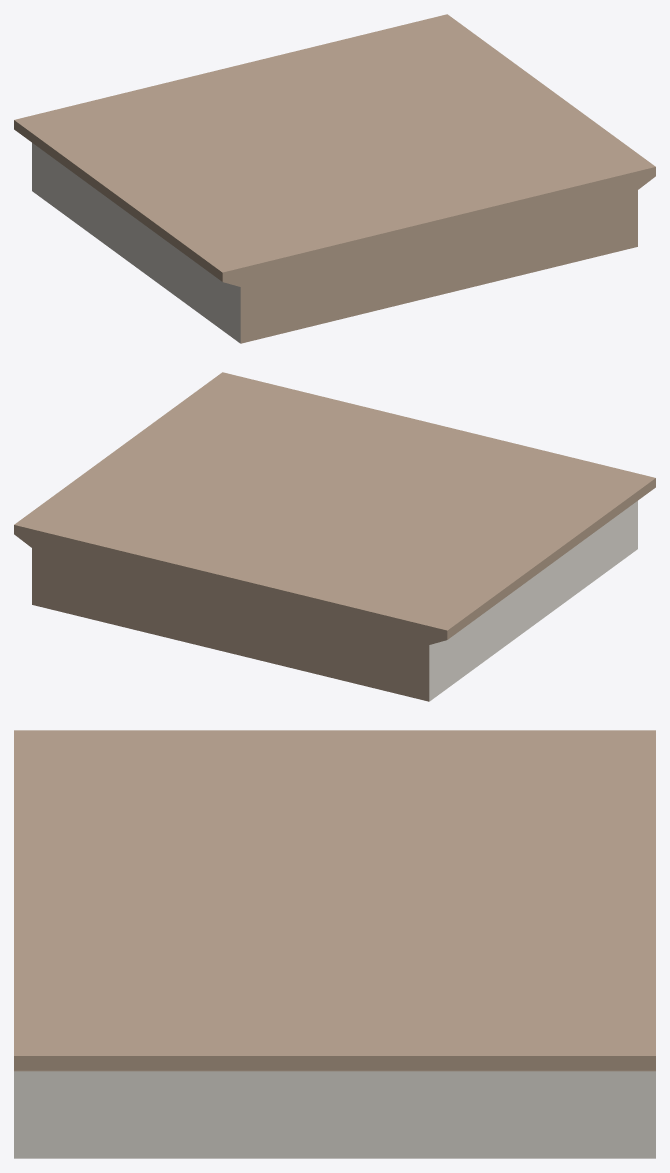
The model's file is Structure_Balcony_2_Edges_Opposite.glb.
3 views of the same model, one above another, from view 1: azimuth 30°, elevation 25°; view 2: azimuth 150°, elevation 25°; view 3: azimuth 270°, elevation 25° (orthographic). The views are drawn at different scales.
Visible parts, largest first — view 1: Structure_Balcony_2_Edges_Opposite; view 2: Structure_Balcony_2_Edges_Opposite; view 3: Structure_Balcony_2_Edges_Opposite.
Boxes of the visible parts, left/top/right/bottom form: Structure_Balcony_2_Edges_Opposite: left=14, top=14, right=655, bottom=343; Structure_Balcony_2_Edges_Opposite: left=14, top=372, right=655, bottom=701; Structure_Balcony_2_Edges_Opposite: left=14, top=730, right=655, bottom=1158.
Size of the model in its own units: 0.54 by 0.09 by 0.45.
